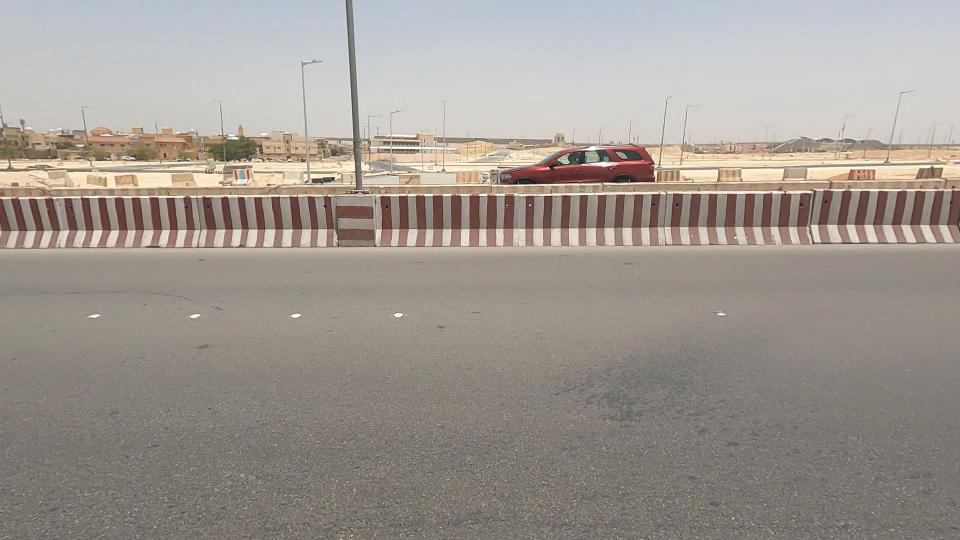CONSTRUCTION_ROAD: (268, 153, 749, 290), (3, 155, 400, 284), (579, 166, 960, 266)
